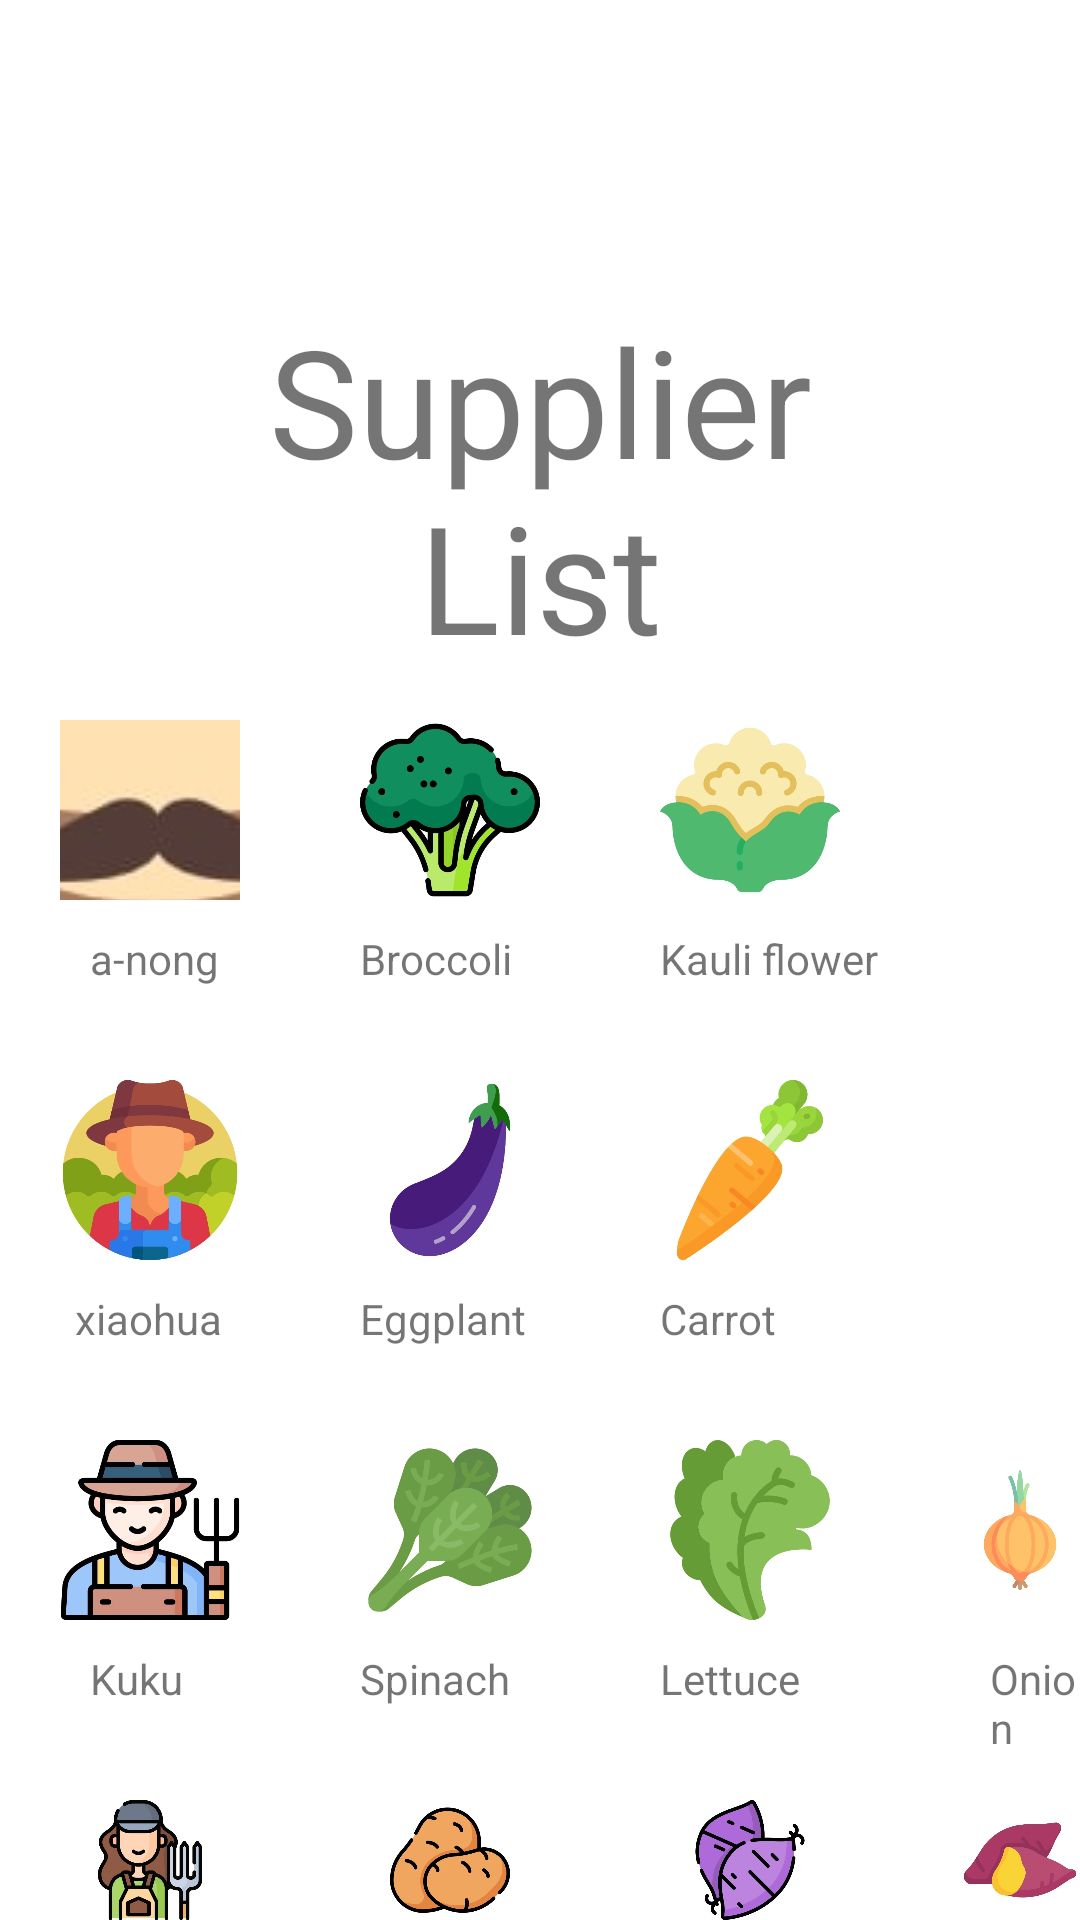

Icon click points for this 1080px×1920px phone screenshot, format (x,y):
farm three: (150,1530)
femfam: (150,1860)
potato: (450,1860)
salad: (750,1530)
sweet ppt: (750,1860)
